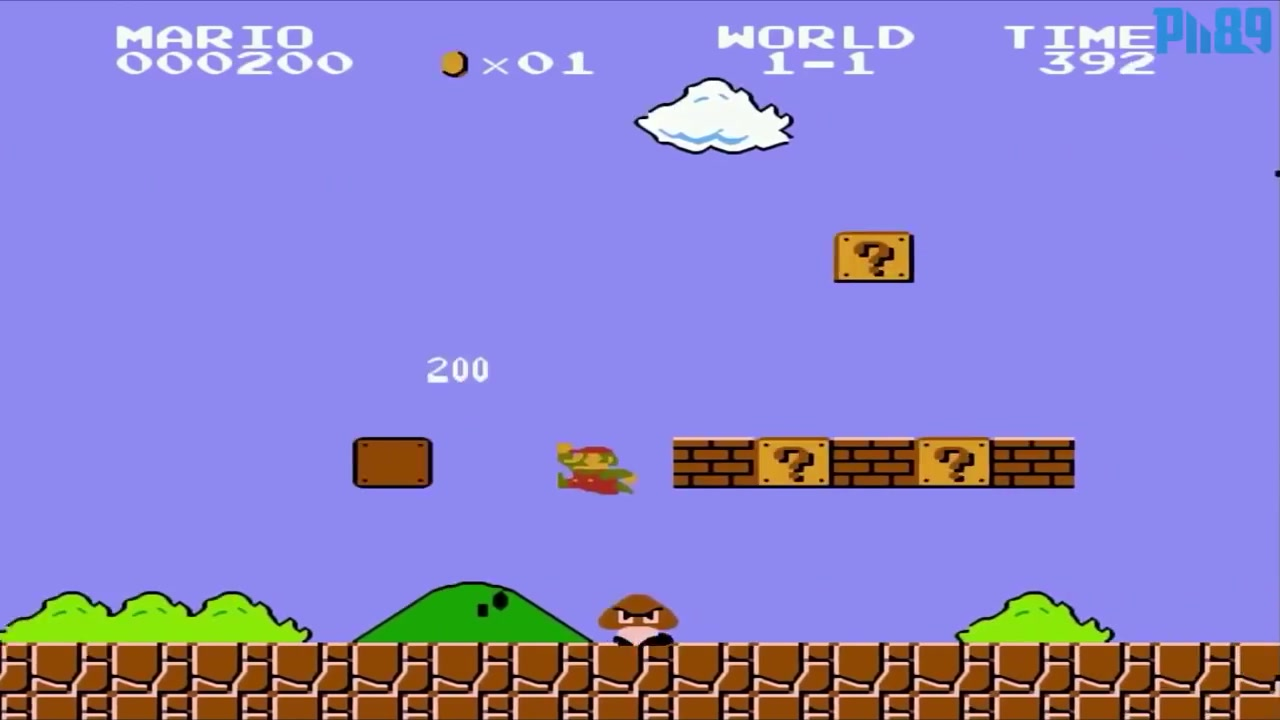mario: (545, 430, 642, 501)
